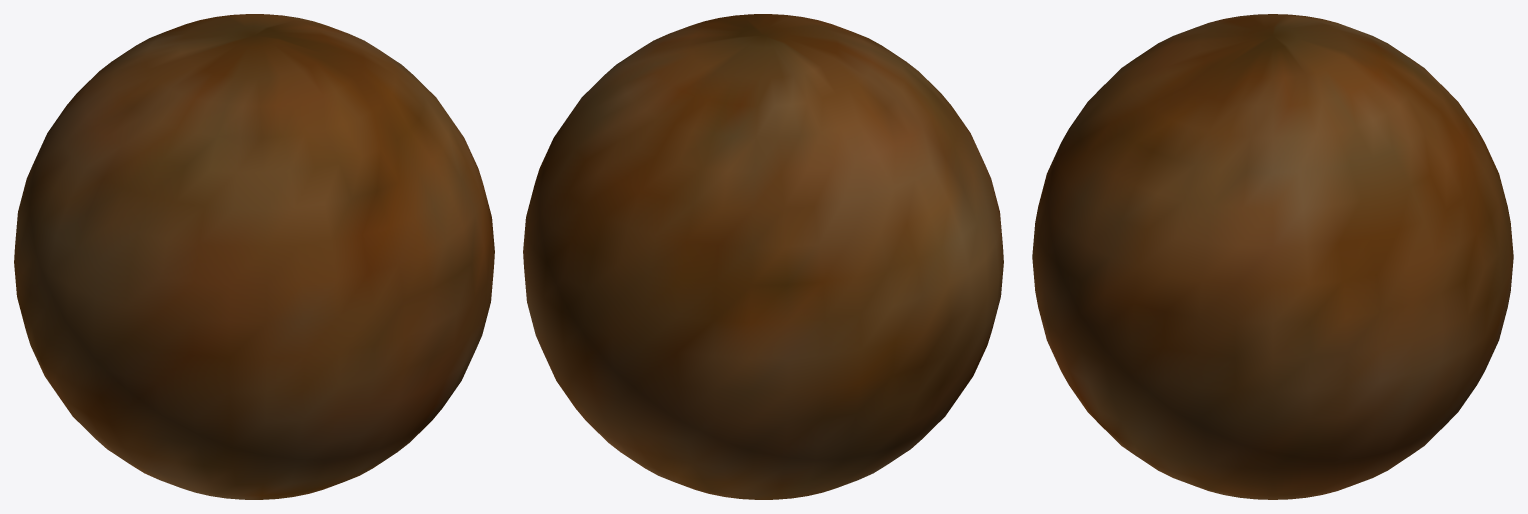
The model's file is P Venus.fbx.
3 renders of one model, left to right at view 1: azimuth 30°, elevation 25°; view 2: azimuth 150°, elevation 25°; view 3: azimuth 270°, elevation 25°, orthographic.
Visible parts, largest first — view 1: pSphere8; view 2: pSphere8; view 3: pSphere8.
Boxes of the visible parts, box(x1,y1,x2,y2) form: pSphere8: box(14, 14, 494, 499); pSphere8: box(523, 14, 1003, 499); pSphere8: box(1032, 14, 1513, 499).
Size of the model in its own units: 1.47 by 1.5 by 1.47.
